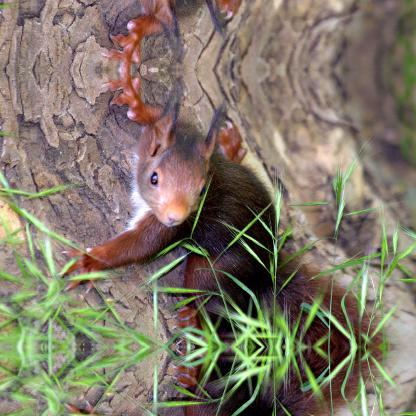Squirrel: (55, 69, 401, 346), (55, 0, 402, 70), (55, 346, 402, 415)
